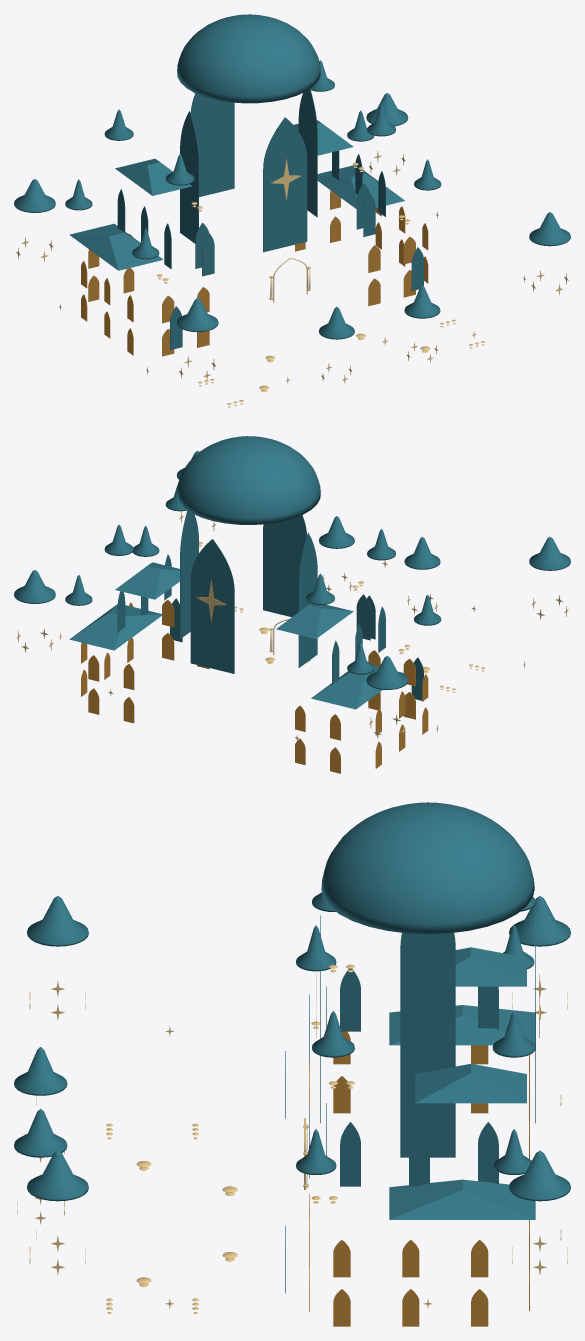
Rendered from Catalog-35.glb.
3 views of the same model, one above another, from view 1: azimuth 30°, elevation 25°; view 2: azimuth 150°, elevation 25°; view 3: azimuth 270°, elevation 25° (orthographic). The views are drawn at different scales.
Parts seen in each view (by area): view 1: Teal Enamel Roof, Amber Window Glass, Polished Gold Edge; view 2: Teal Enamel Roof, Amber Window Glass, Polished Gold Edge; view 3: Teal Enamel Roof, Amber Window Glass, Polished Gold Edge.
Part boxes in pixels (box(x1,y1,x2,y2)): Teal Enamel Roof: box(14, 14, 570, 349); Amber Window Glass: box(81, 190, 428, 356); Polished Gold Edge: box(16, 151, 568, 407); Teal Enamel Roof: box(14, 436, 570, 709); Amber Window Glass: box(81, 600, 428, 773); Polished Gold Edge: box(16, 512, 568, 741); Teal Enamel Roof: box(14, 802, 570, 1293); Amber Window Glass: box(309, 1031, 529, 1326); Polished Gold Edge: box(17, 964, 567, 1313).
Bounding box in the file's own units: 77.2 × 52.78 × 64.7.
